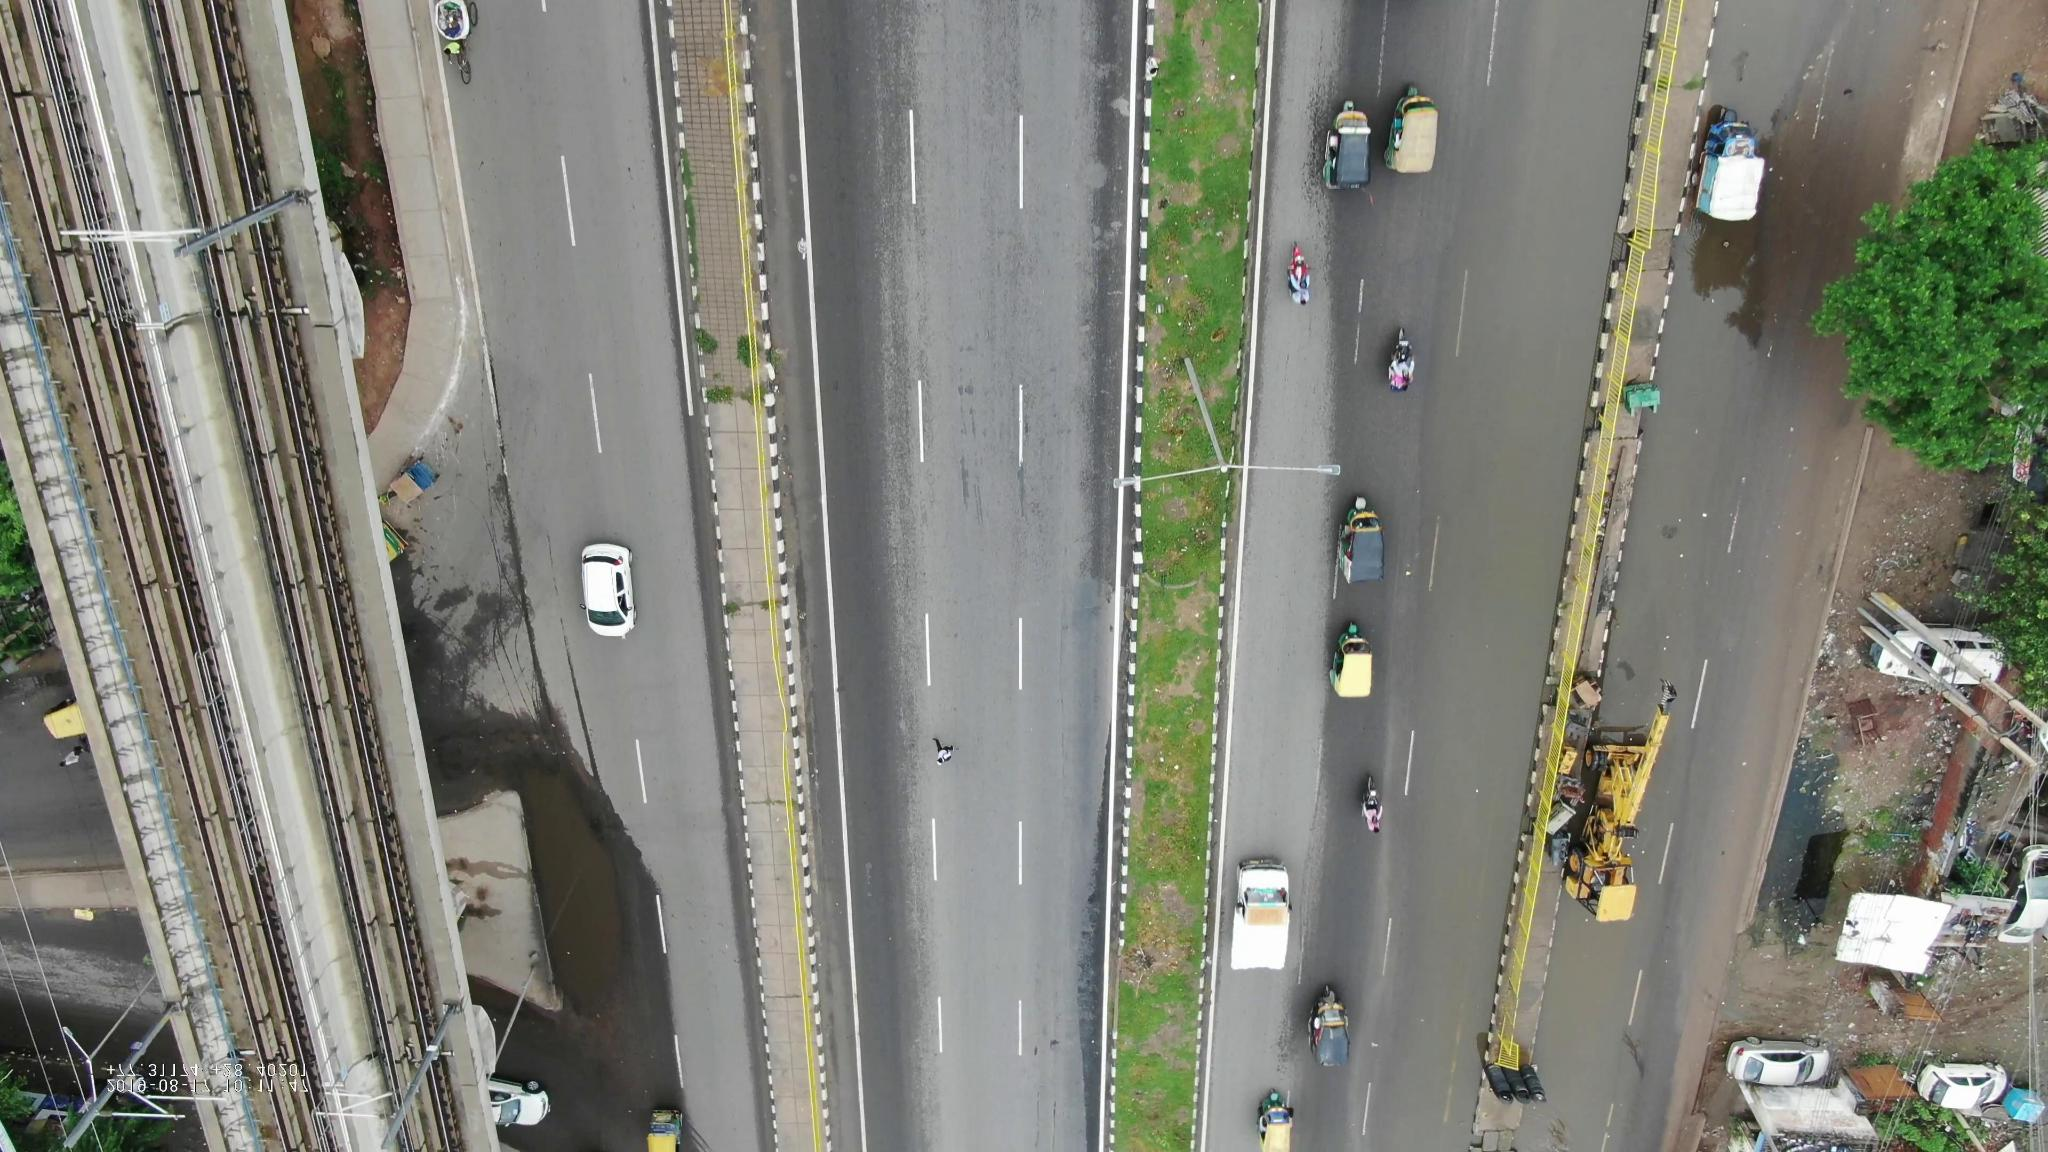Waterlogging: (1622, 233, 1777, 677), (1431, 110, 1632, 447), (1415, 508, 1568, 782), (1370, 852, 1511, 1132), (511, 767, 637, 1009)
